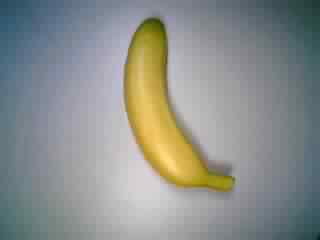banana: (117, 15, 243, 199)
